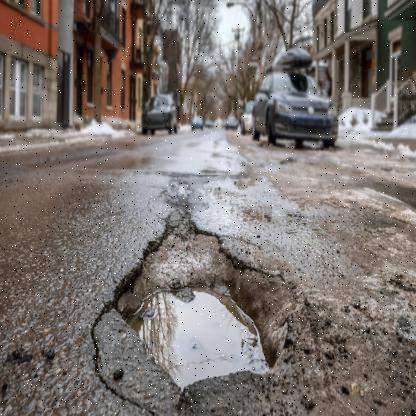pothole_water: (66, 226, 320, 400)
